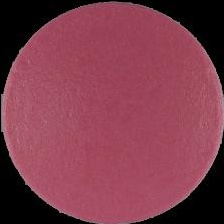0781-1883: (0, 0, 224, 224)
